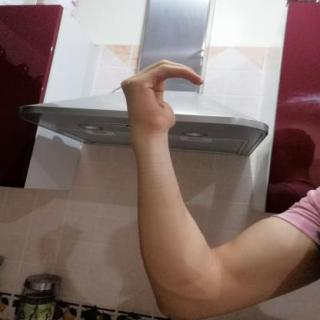HAA: (108, 52, 212, 142)
